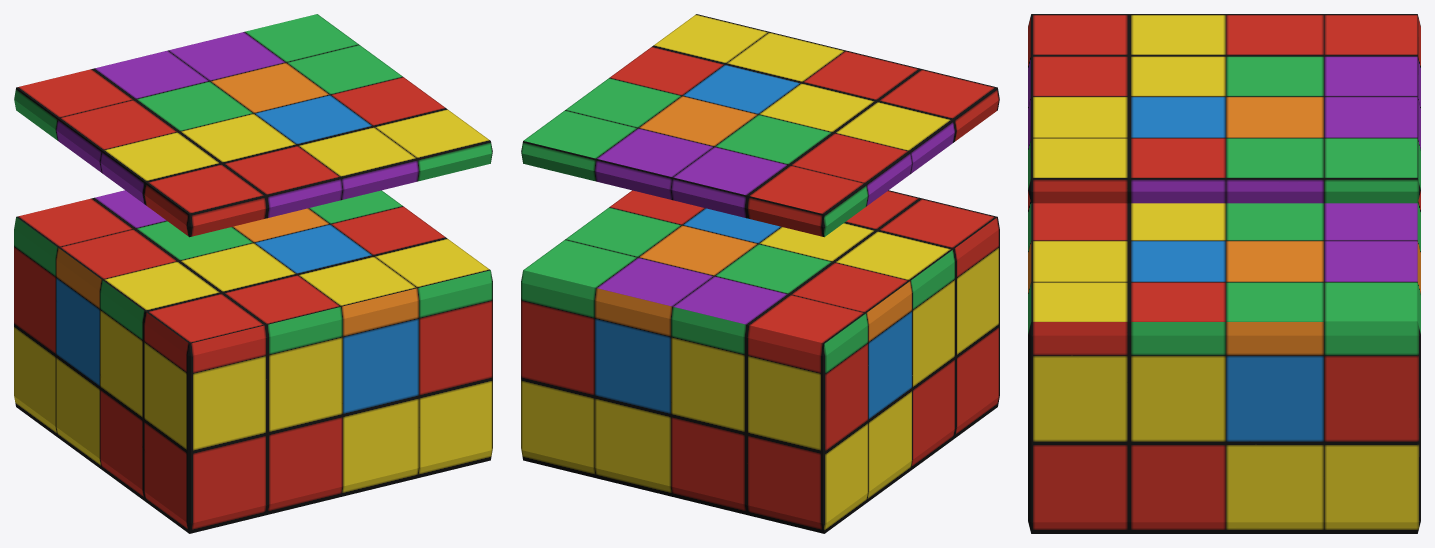
The model's file is BoardGameBox.glb.
The picture shows the model from 3 angles, left to right: view 1: azimuth 30°, elevation 25°; view 2: azimuth 150°, elevation 25°; view 3: azimuth 270°, elevation 25°; orthographic projection. The views are drawn at different scales.
Parts seen in each view (by area): view 1: BoardGameBox; view 2: BoardGameBox; view 3: BoardGameBox.
Boxes of the visible parts, x1=… form: BoardGameBox: x1=14, y1=14, x2=492, y2=533; BoardGameBox: x1=521, y1=14, x2=999, y2=533; BoardGameBox: x1=1028, y1=14, x2=1420, y2=533.
Bounding box in the file's own units: 1 × 1 × 1.
Materials: 1 (1 with a texture image).
